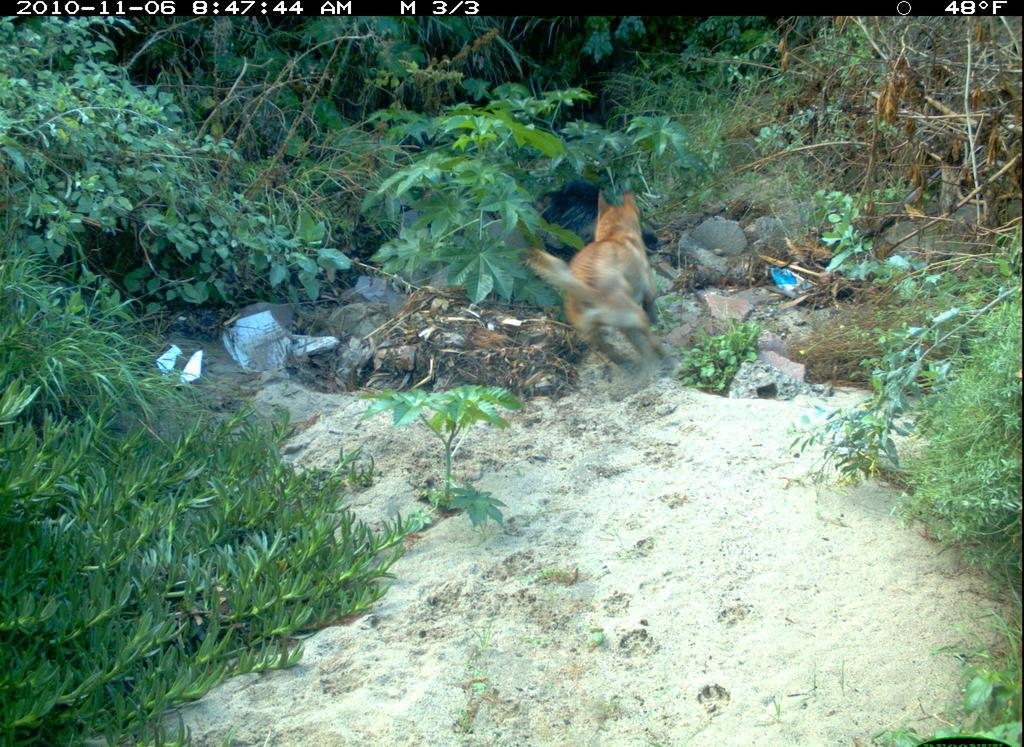dog: (519, 184, 690, 376)
